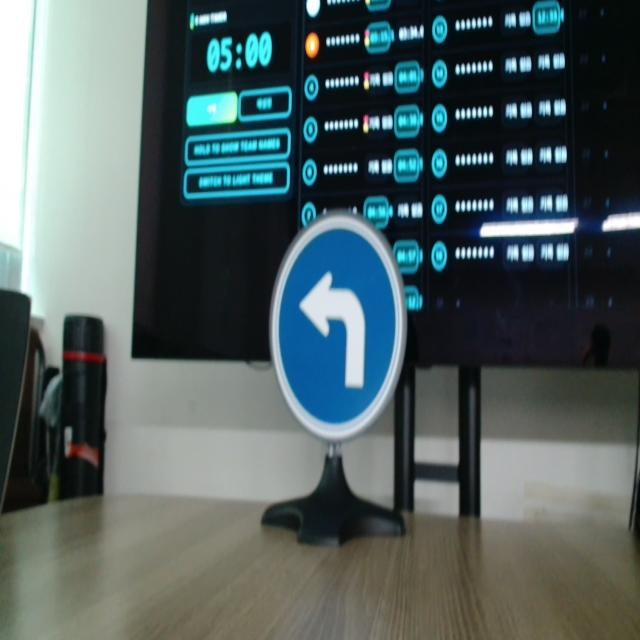left_direction: (262, 213, 421, 450)
